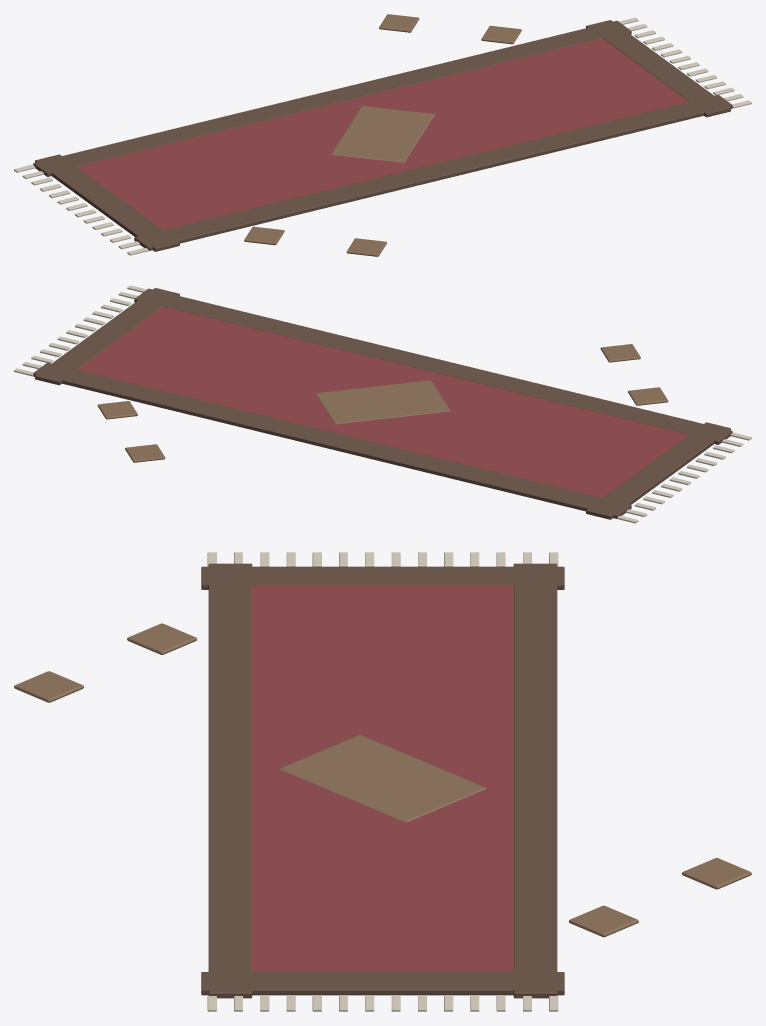
The picture shows the model from 3 angles, top to bottom: view 1: azimuth 30°, elevation 25°; view 2: azimuth 150°, elevation 25°; view 3: azimuth 270°, elevation 25°; orthographic projection. The views are drawn at different scales.
Visible parts, largest first — view 1: runnerRug; view 2: runnerRug; view 3: runnerRug.
Part boxes in pixels (left/top/right/bottom): runnerRug: left=14, top=14, right=751, bottom=256; runnerRug: left=14, top=285, right=751, bottom=523; runnerRug: left=14, top=552, right=751, bottom=1011.
Size of the model in its own units: 2.98 by 0.018 by 2.03.
